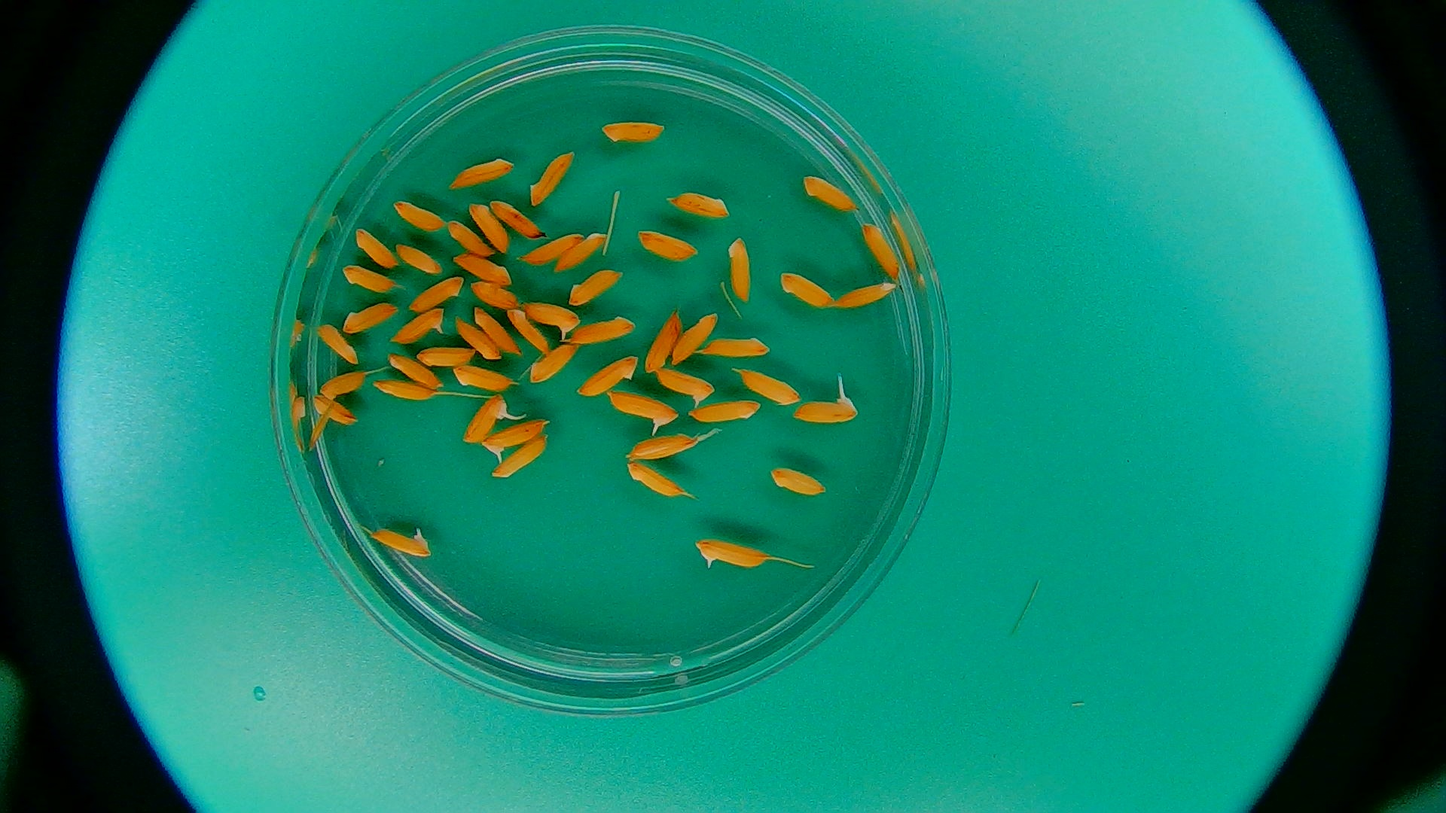no: (637, 309, 683, 376), (526, 150, 574, 210), (447, 151, 514, 193), (487, 434, 545, 482), (488, 199, 551, 243), (672, 312, 722, 367), (574, 355, 639, 397), (737, 365, 802, 407), (473, 301, 520, 359), (690, 330, 770, 364), (622, 430, 697, 465), (767, 462, 832, 501), (777, 269, 836, 311), (860, 220, 900, 281), (466, 199, 511, 253), (554, 233, 610, 276), (801, 169, 856, 212), (527, 341, 577, 388), (506, 305, 553, 355), (519, 231, 586, 266), (445, 361, 516, 394), (636, 227, 700, 263), (828, 279, 897, 312), (624, 461, 683, 499), (452, 251, 512, 288), (725, 234, 756, 305), (390, 195, 447, 233), (315, 323, 361, 370), (351, 224, 399, 269), (392, 239, 446, 279), (454, 316, 502, 361), (407, 276, 465, 313), (566, 270, 624, 307), (685, 400, 764, 426), (566, 316, 636, 345), (465, 276, 521, 312), (386, 352, 441, 388), (666, 188, 729, 219), (340, 263, 395, 297), (342, 301, 398, 334), (598, 118, 666, 145), (447, 220, 496, 257), (413, 344, 479, 370), (371, 379, 438, 404), (317, 368, 366, 402), (312, 393, 358, 427)
yes: (691, 531, 767, 576), (603, 386, 681, 426), (653, 365, 715, 408), (460, 395, 511, 445), (369, 524, 435, 562), (522, 299, 581, 338), (387, 306, 445, 344), (792, 391, 856, 425), (478, 418, 546, 449)
